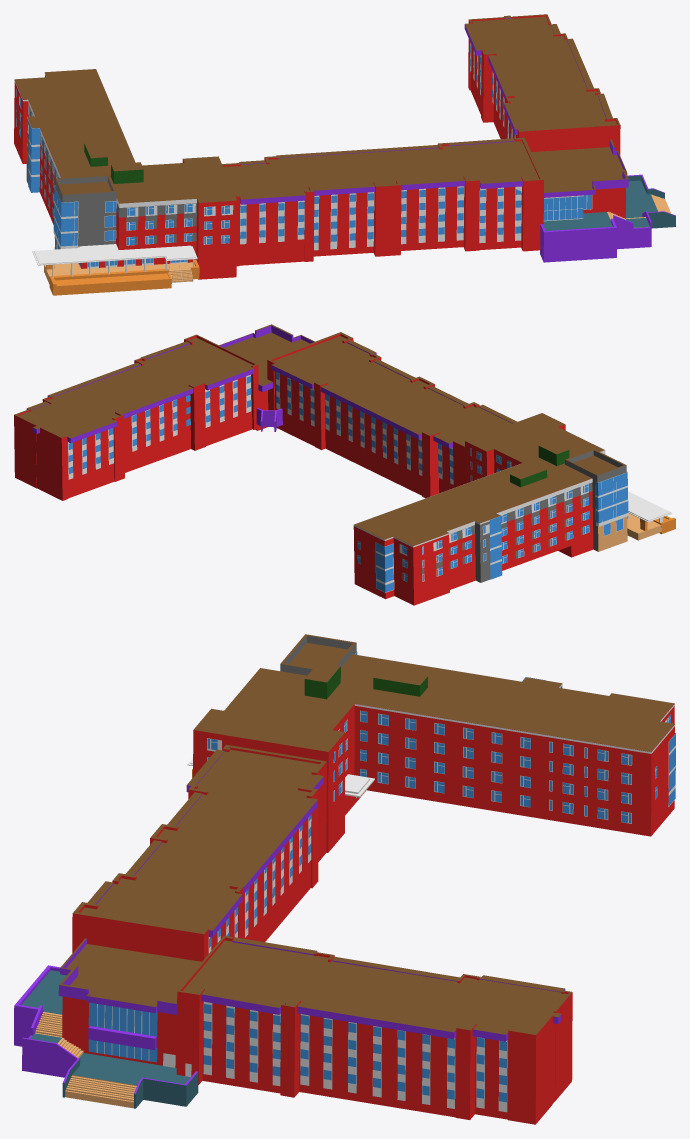
Rendered from PatapscoHall.obj.
3 renders of one model, top to bottom at view 1: azimuth 30°, elevation 25°; view 2: azimuth 150°, elevation 25°; view 3: azimuth 270°, elevation 25°, orthographic. The views are drawn at different scales.
Visible parts, largest first — view 1: SM_Patapsco_Bldgs, SM_Patapsco_Wndws, SM_Patapsco_PorchLntls; view 2: SM_Patapsco_Bldgs, SM_Patapsco_Wndws, SM_Patapsco_PorchLntls; view 3: SM_Patapsco_Bldgs, SM_Patapsco_Wndws, SM_Patapsco_PorchLntls.
Boxes of the visible parts, <box> form: SM_Patapsco_Bldgs: <box>14,14,628,279</box>; SM_Patapsco_Wndws: <box>14,43,592,282</box>; SM_Patapsco_PorchLntls: <box>44,15,675,295</box>; SM_Patapsco_Bldgs: <box>14,324,627,605</box>; SM_Patapsco_Wndws: <box>68,372,672,592</box>; SM_Patapsco_PorchLntls: <box>26,340,675,540</box>; SM_Patapsco_Bldgs: <box>58,634,674,1124</box>; SM_Patapsco_Wndws: <box>88,651,675,1112</box>; SM_Patapsco_PorchLntls: <box>14,749,565,1108</box>.
Size of the model in its own units: 13093 by 2052 by 9254.
